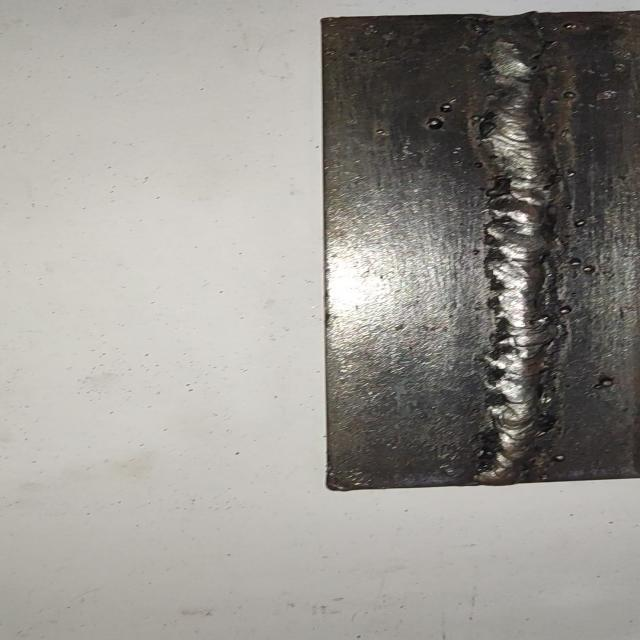Defect: (451, 15, 576, 64), (424, 96, 492, 145), (586, 372, 624, 398)
Welding Line: (474, 16, 568, 480)
Workpiece: (313, 6, 640, 494)
